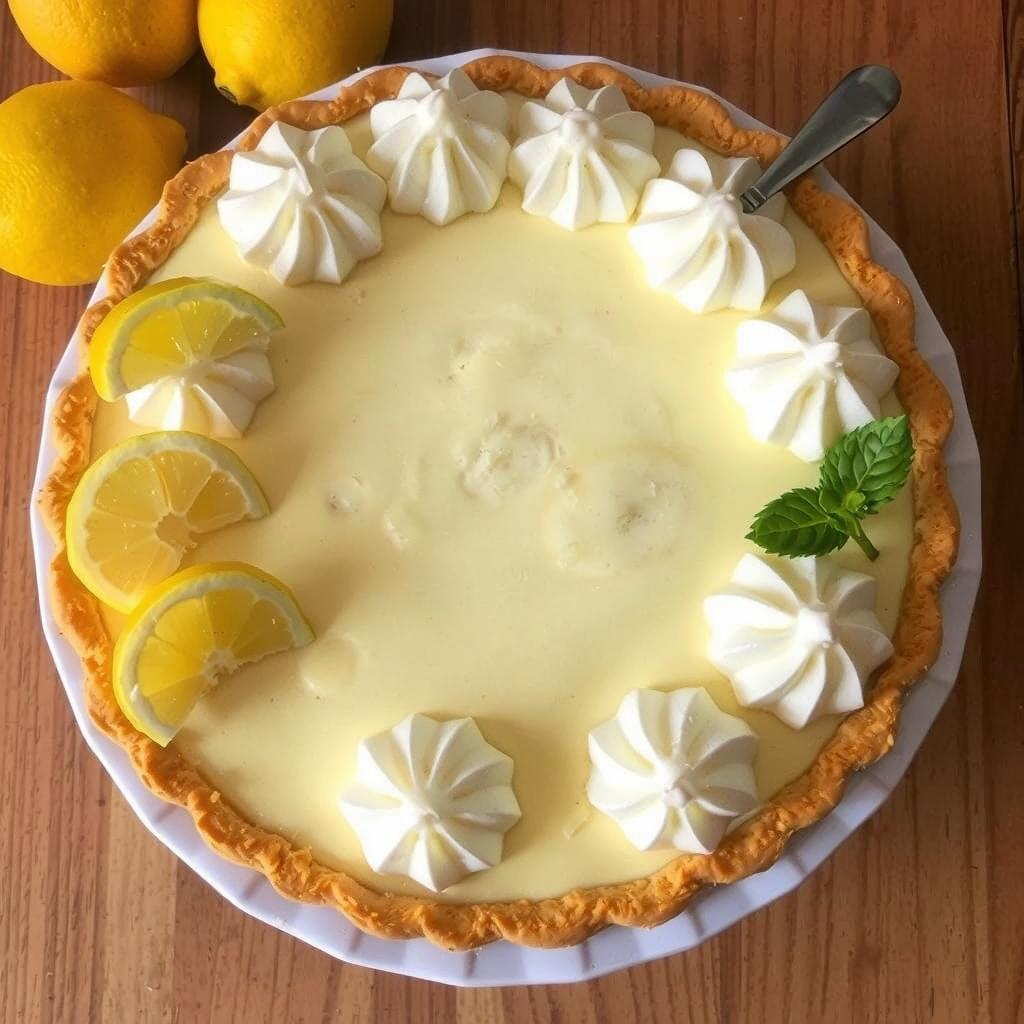pie: (29, 47, 974, 960)
